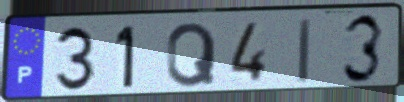1: (112, 24, 136, 90)
3: (338, 12, 393, 86), (51, 23, 100, 95)
4: (228, 20, 271, 86)
I: (295, 16, 314, 86)
Q: (164, 20, 219, 90)
